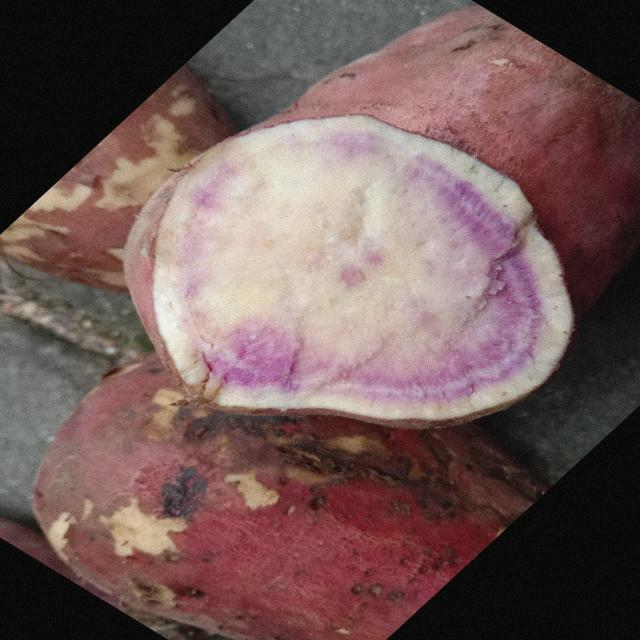Healthy Sweet Potato: (125, 115, 573, 429)
